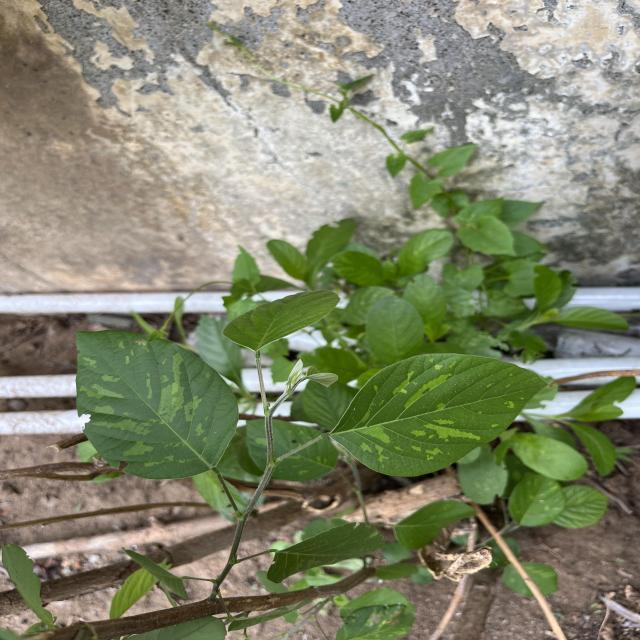Desmodium gangeticum: (326, 350, 554, 480), (72, 322, 242, 482)
